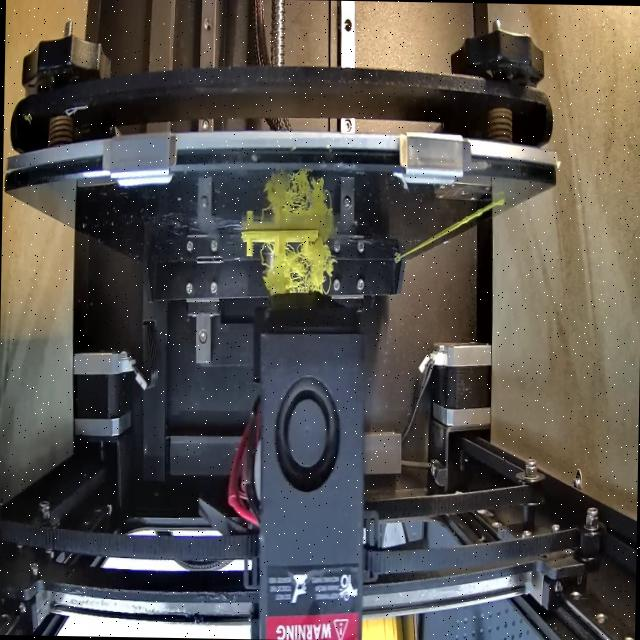spaghetti: (257, 236, 336, 303)
